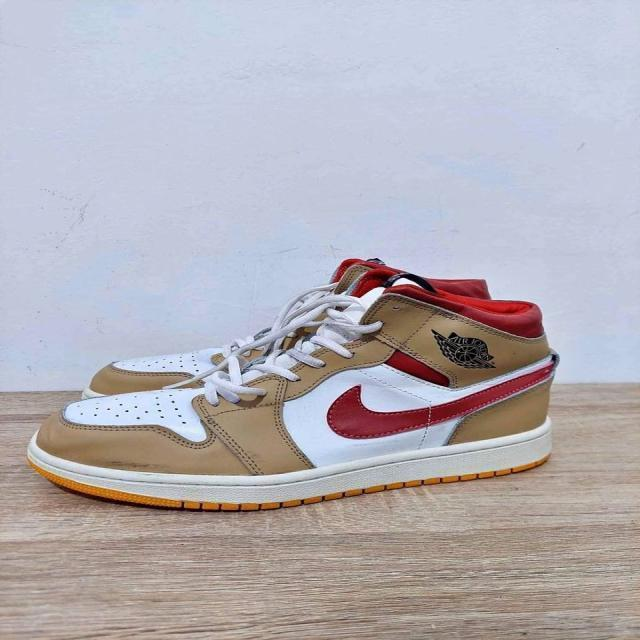nike fake jordan 1: (21, 280, 555, 516), (78, 258, 492, 397)
